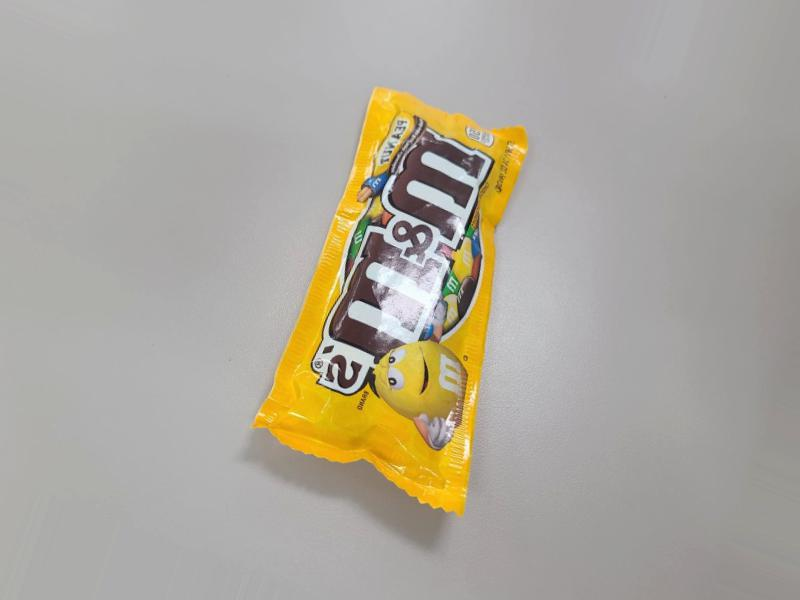m&m: (280, 148, 516, 512)
